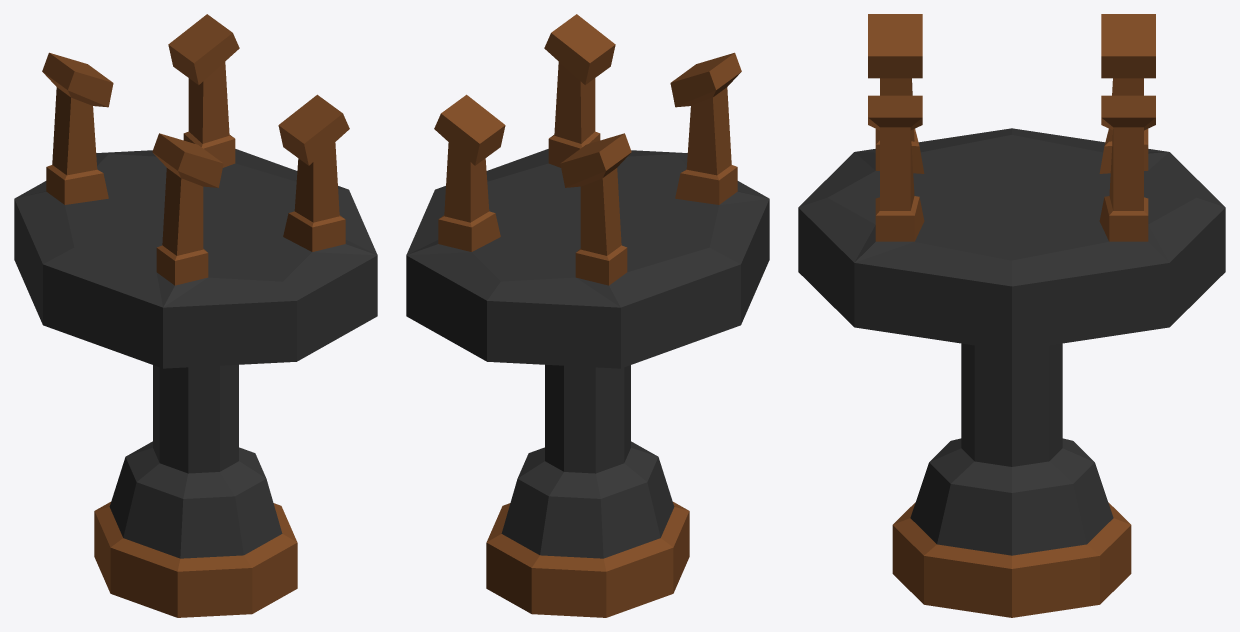
File: RocketBase.fbx
The picture shows the model from 3 angles, left to right: view 1: azimuth 30°, elevation 25°; view 2: azimuth 150°, elevation 25°; view 3: azimuth 270°, elevation 25°; orthographic projection. The views are drawn at different scales.
Parts seen in each view (by area): view 1: MissileBaseRotate, MissileBase; view 2: MissileBaseRotate, MissileBase; view 3: MissileBaseRotate, MissileBase.
Part boxes in pixels (left/top/right/bottom): MissileBaseRotate: left=14, top=14, right=377, bottom=368; MissileBase: left=94, top=364, right=297, bottom=617; MissileBaseRotate: left=406, top=14, right=769, bottom=368; MissileBase: left=486, top=364, right=689, bottom=617; MissileBaseRotate: left=798, top=14, right=1225, bottom=350; MissileBase: left=892, top=343, right=1131, bottom=617.
Size of the model in its own units: 260 by 398 by 297.
